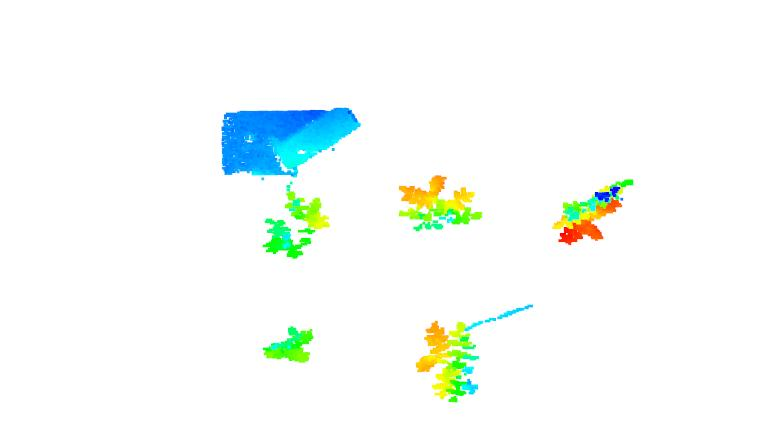chickpea: (549, 177, 637, 245), (413, 322, 481, 405), (396, 172, 483, 232), (262, 188, 331, 258), (263, 325, 317, 367)
